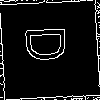D: (25, 24, 77, 63)
